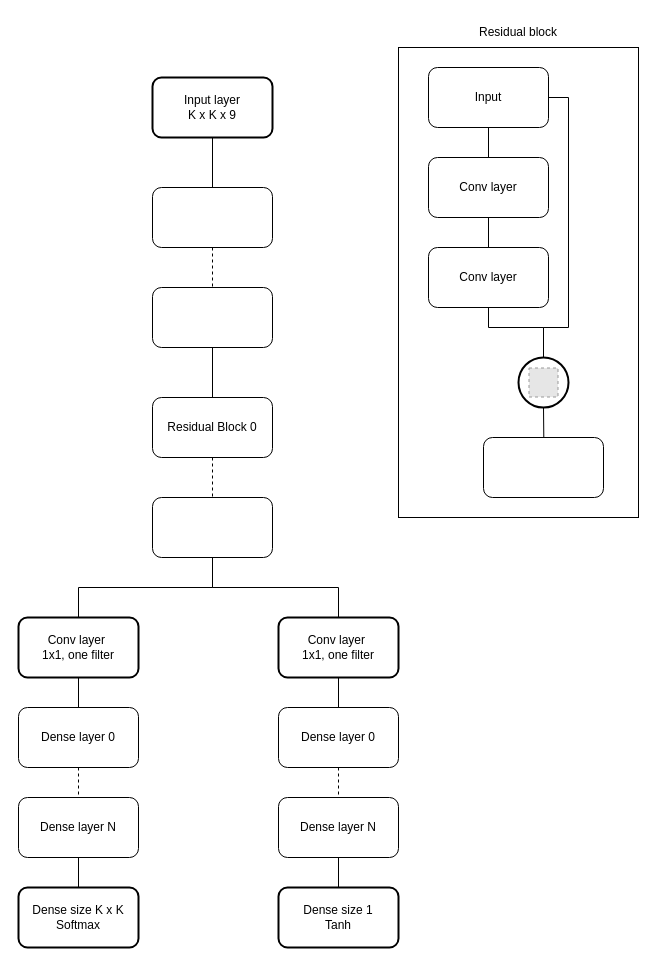
The diagram is 656 pixels wide and 965 high, and some of its shapes have lost their labels. Grey dashed boxes stand in for pictures. The shapes that lost their labels are listed below. From the top down, each one's centre as x and y in pixels, then its label:
[212,217]: Conv layer 0
[212,317]: Conv layer N
[543,467]: Activation
[212,527]: Residual Block N
